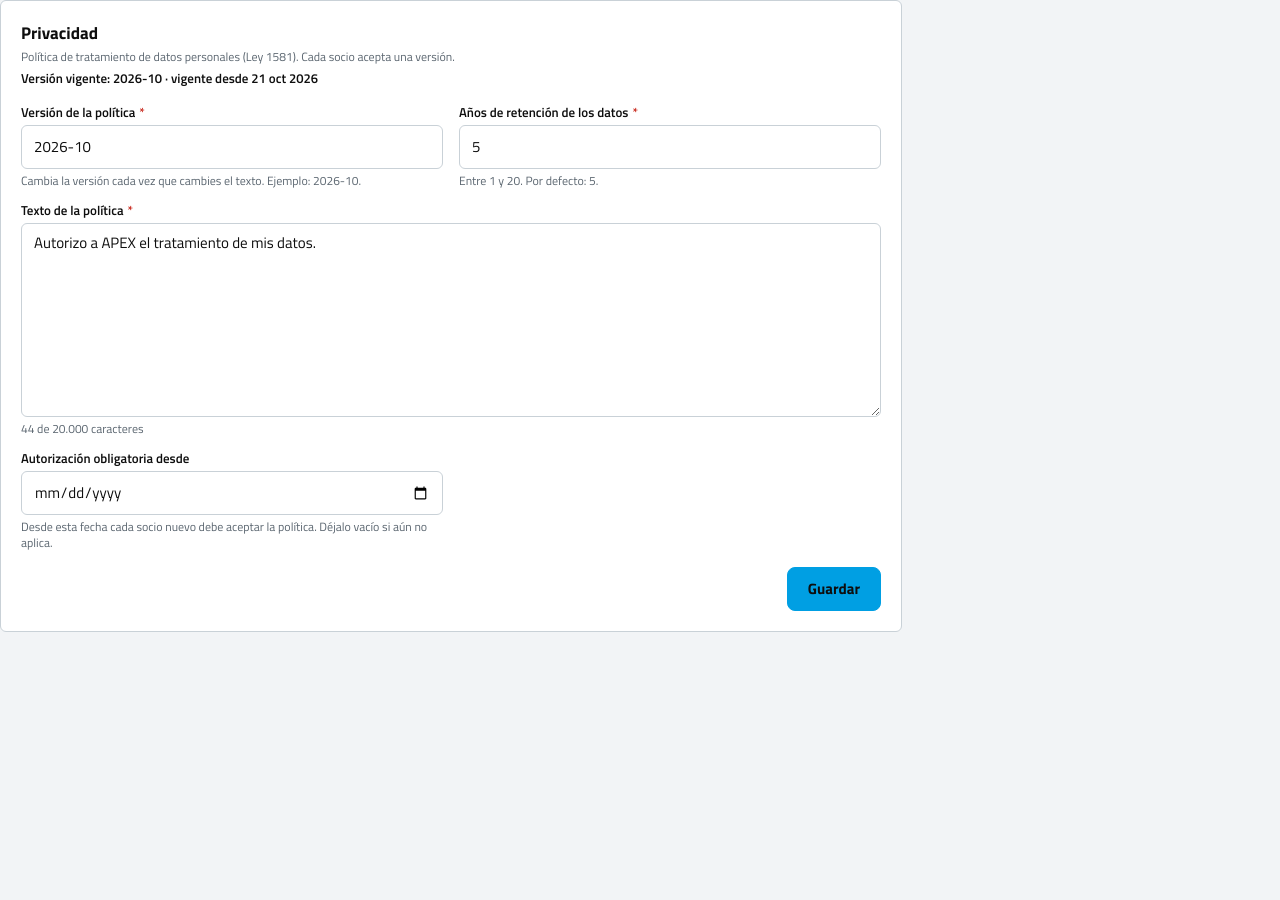
Test: PrivacySettingsForm › al confirmar la versión nueva la publica con la fecha de autorización
Replace the text in the field labelled "Versión de la política*" with "2026-11": point(232, 147) [21,125,443,169]
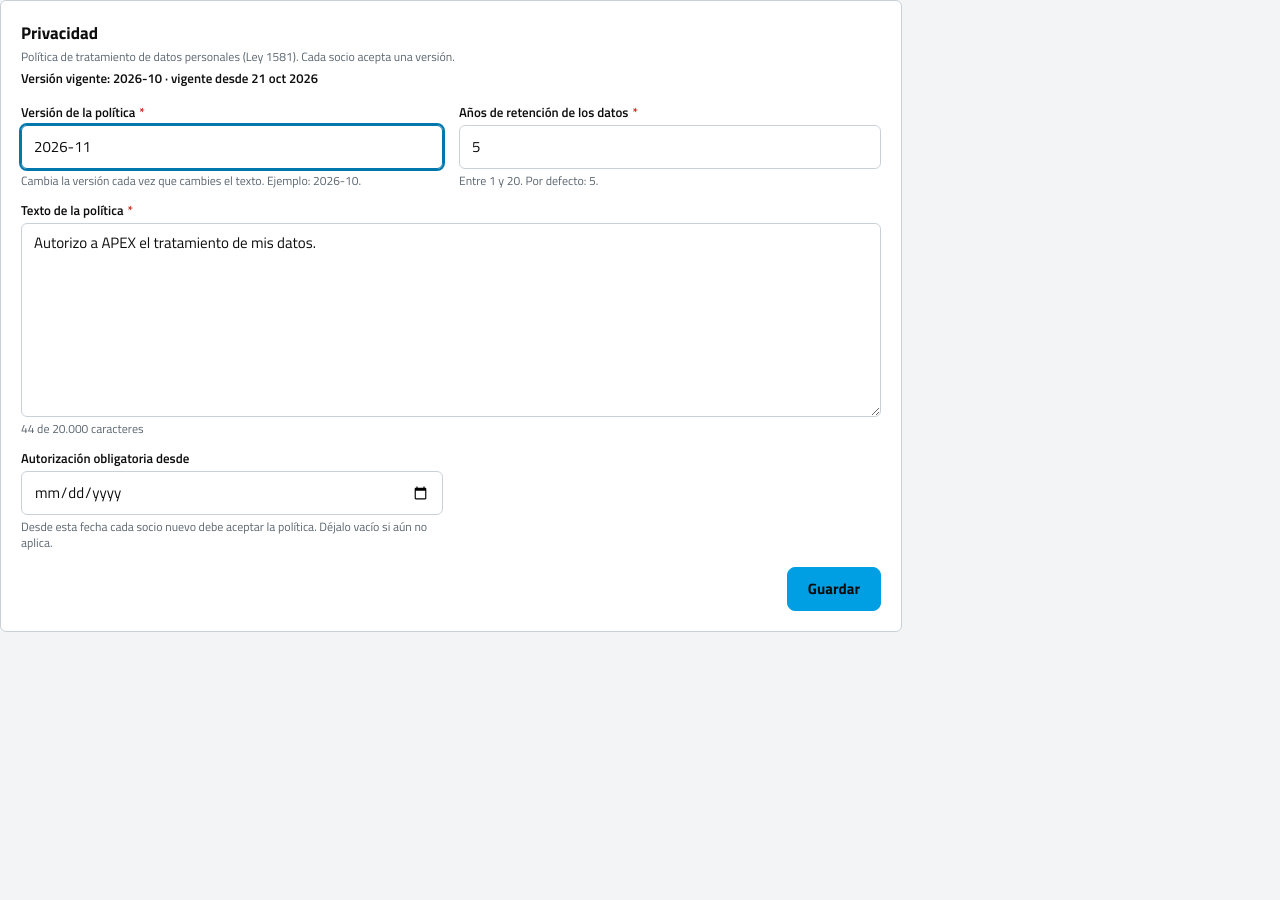
Replace the text in the text box labelled "Texto de la política*" with "Nuevo texto.": point(451, 320) [21,223,881,417]
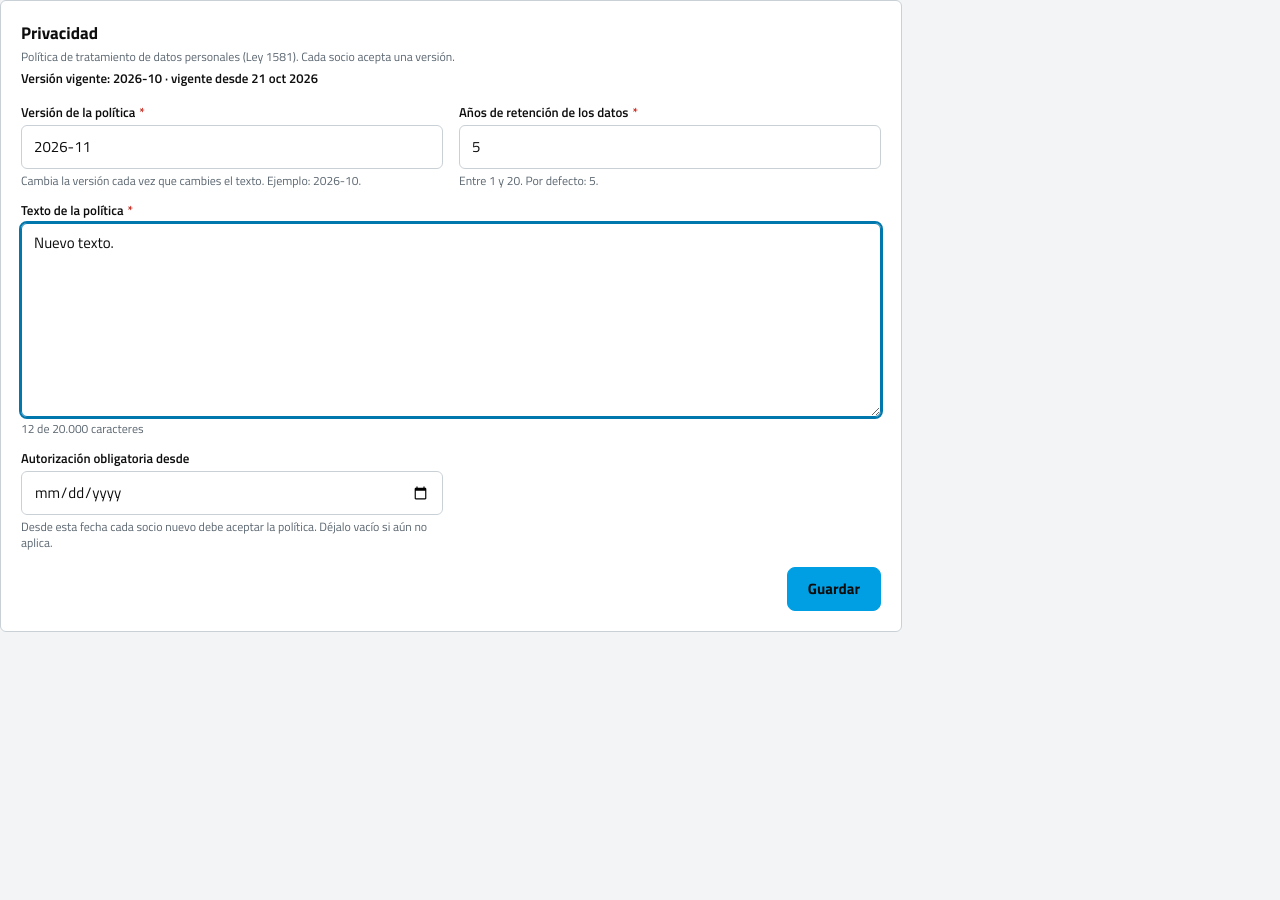
In the date field labelled "Autorización obligatoria desde": point(232, 493) [21,471,443,515], type "2026-11-01"
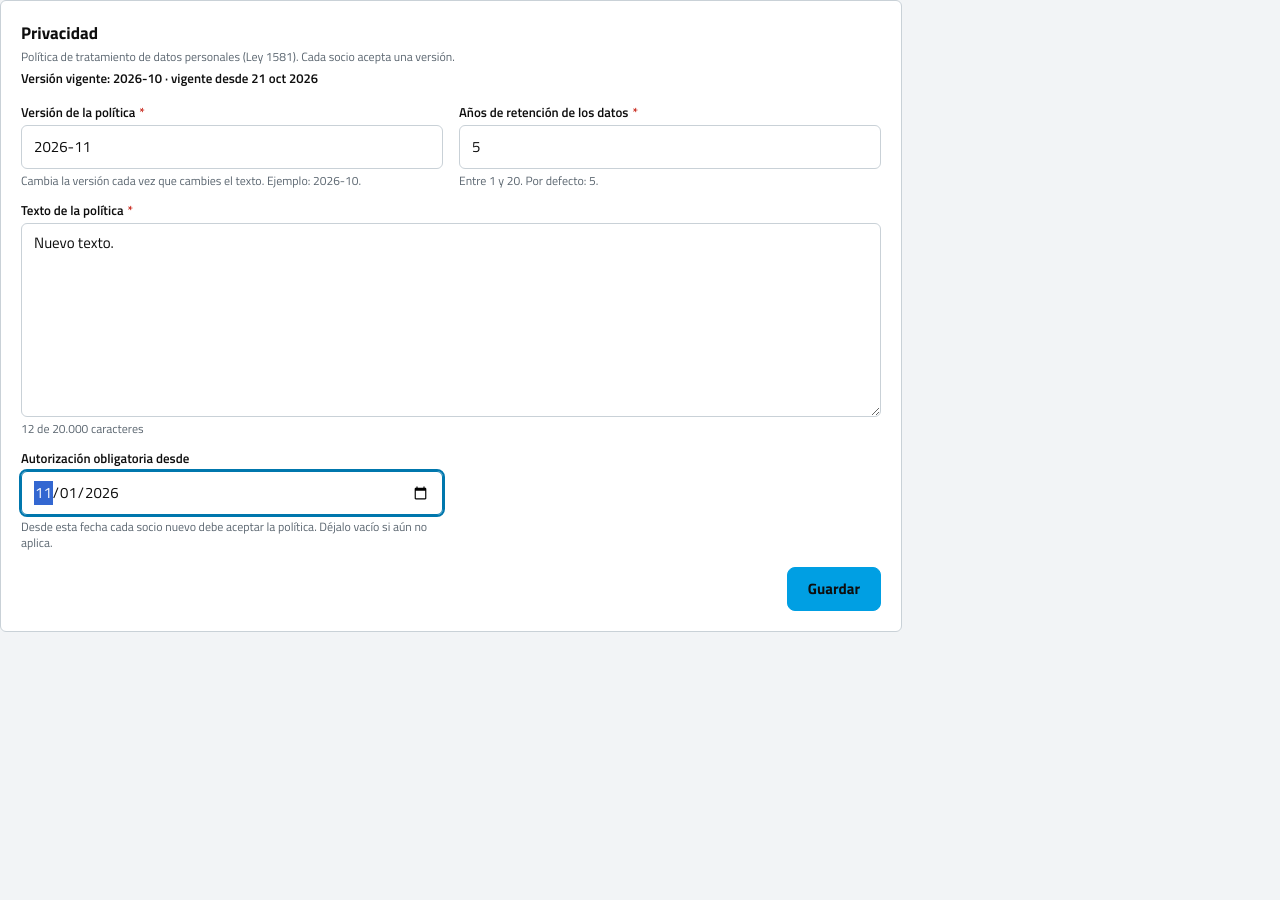
Click the button "Guardar": point(834, 589) [787,567,881,611]
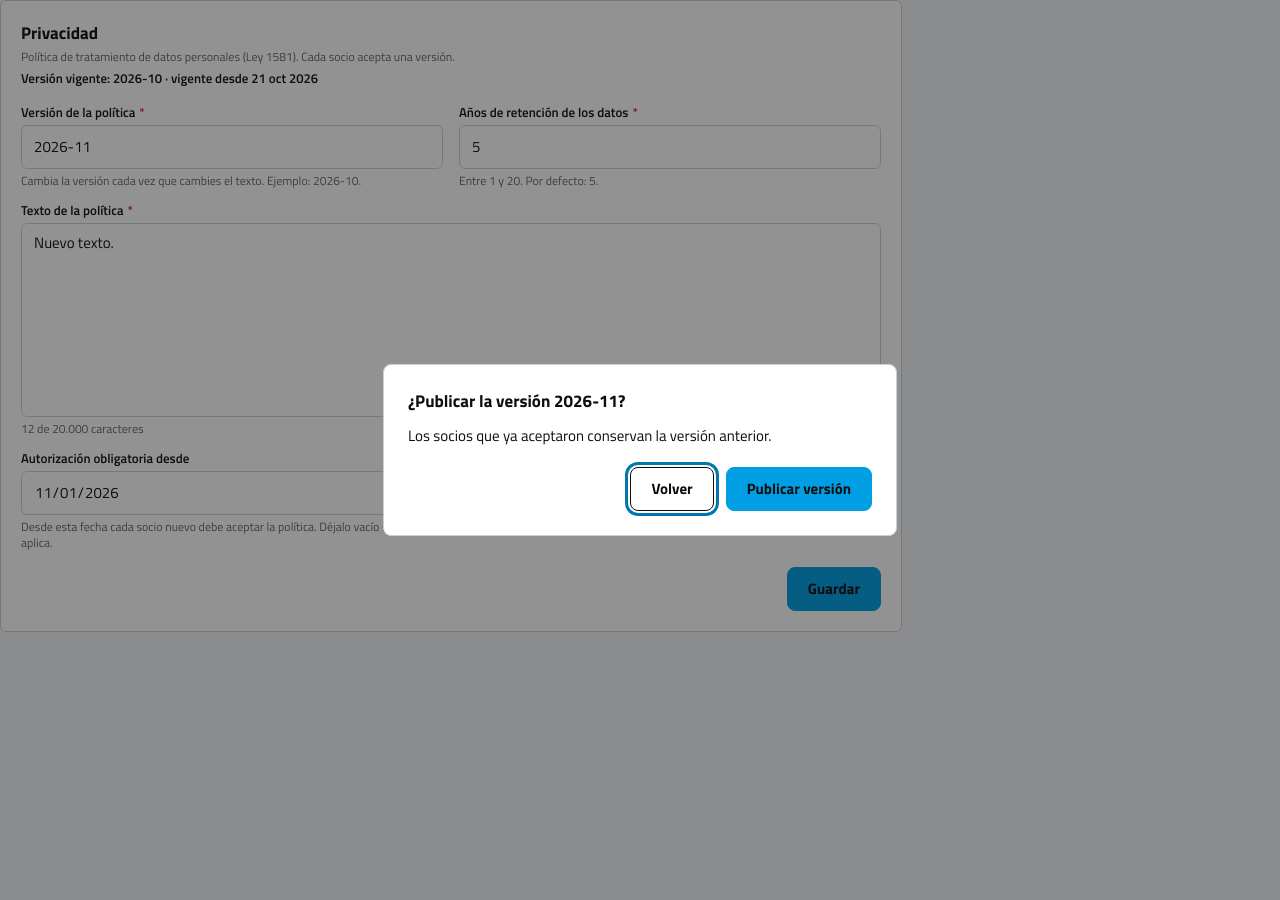
Click the button "Publicar versión": point(799, 489) [726,467,872,511]
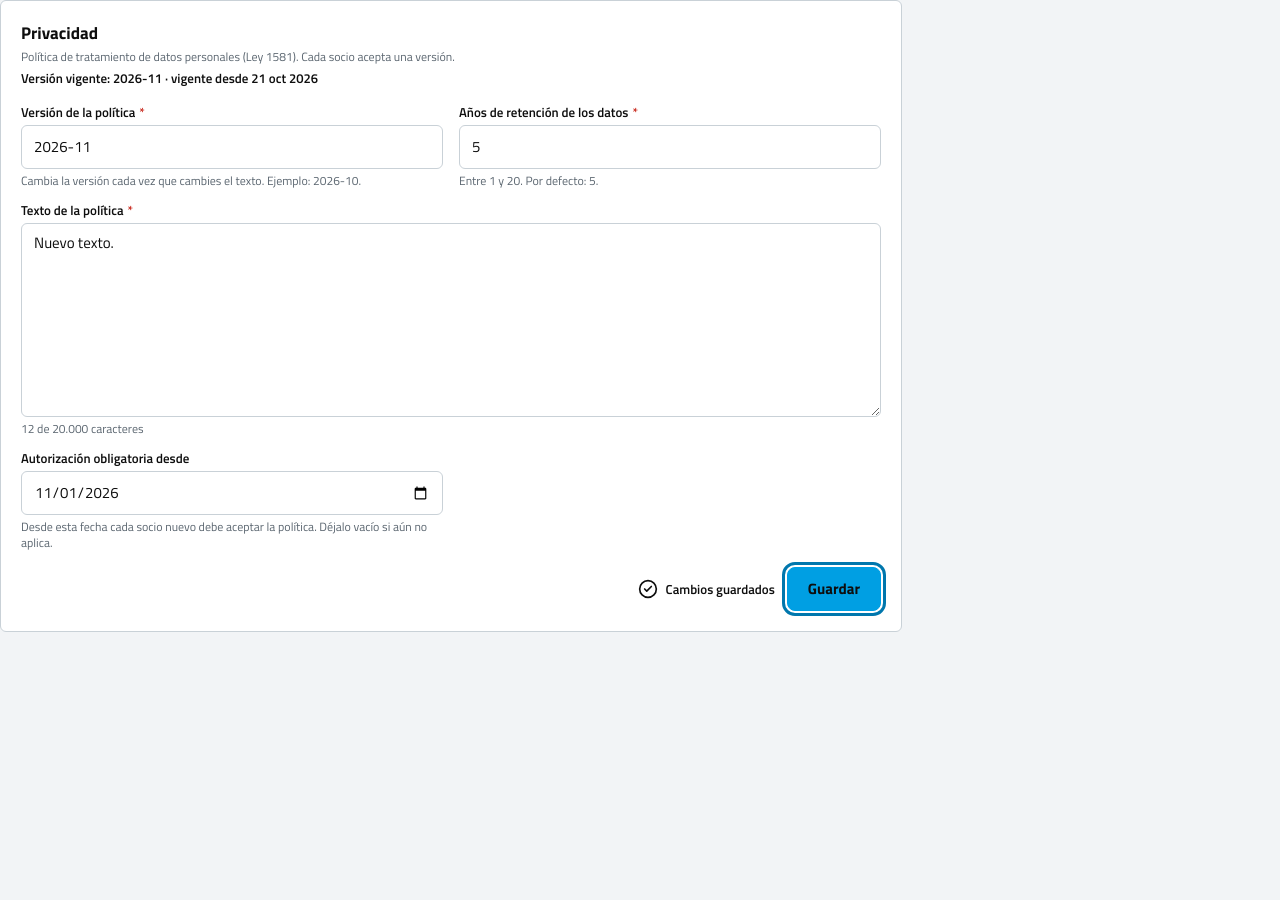
Now the text "Cambios guardados" is shown, box [638,579,775,599]
Now the text "Versión vigente: 2026-11 · vigente desde 21 oct 2026" is shown, box [21,68,318,88]
